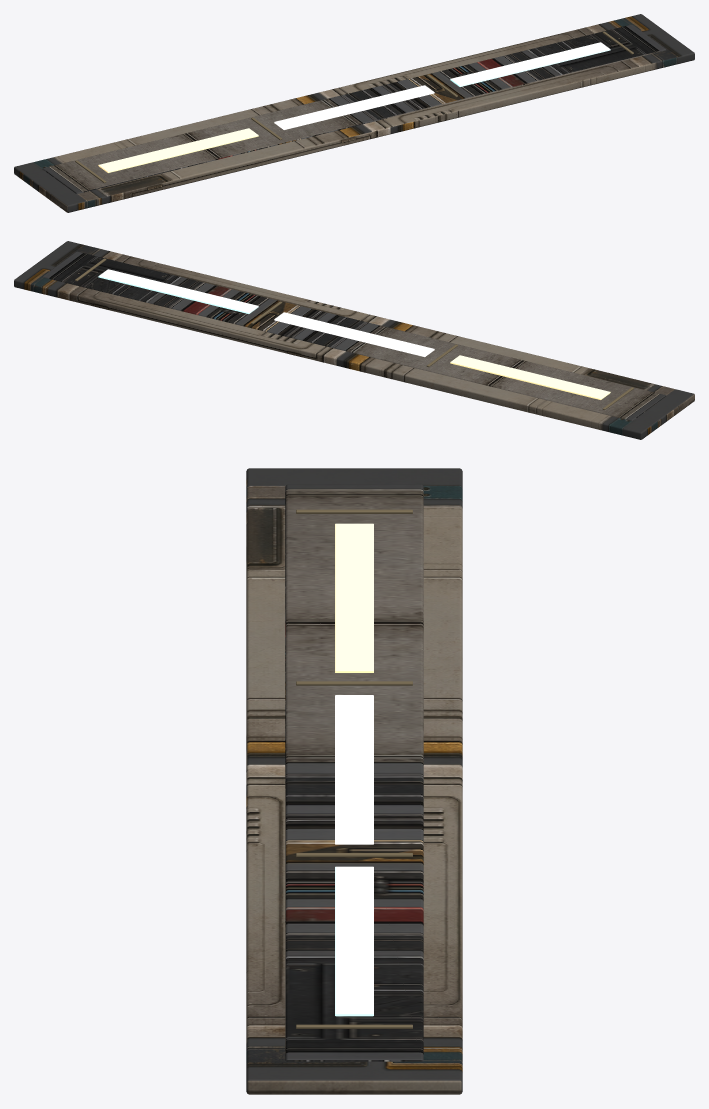
Rendered from hp_room_residential_floor_path_inlay.glb.
3 renders of one model, top to bottom at view 1: azimuth 30°, elevation 25°; view 2: azimuth 150°, elevation 25°; view 3: azimuth 270°, elevation 25°, orthographic. The views are drawn at different scales.
Parts seen in each view (by area): view 1: long_dark_floor_inlay_backer, brushed_route_plate, white_middle_route_segment, cyan_last_route_segment, warm_first_route_segment; view 2: long_dark_floor_inlay_backer, brushed_route_plate, white_middle_route_segment, cyan_last_route_segment, warm_first_route_segment; view 3: brushed_route_plate, long_dark_floor_inlay_backer, cyan_last_route_segment, warm_first_route_segment, white_middle_route_segment.
Boxes of the visible parts, <box> form: long_dark_floor_inlay_backer: <box>14,14,694,212</box>; brushed_route_plate: <box>42,24,666,193</box>; white_middle_route_segment: <box>274,85,434,129</box>; cyan_last_route_segment: <box>450,42,610,86</box>; warm_first_route_segment: <box>98,128,258,172</box>; long_dark_floor_inlay_backer: <box>14,241,694,439</box>; brushed_route_plate: <box>42,251,666,420</box>; white_middle_route_segment: <box>274,312,434,356</box>; cyan_last_route_segment: <box>98,269,258,313</box>; warm_first_route_segment: <box>450,355,610,399</box>; brushed_route_plate: <box>285,484,423,1061</box>; long_dark_floor_inlay_backer: <box>246,468,462,1094</box>; cyan_last_route_segment: <box>335,866,373,1016</box>; warm_first_route_segment: <box>335,523,373,672</box>; white_middle_route_segment: <box>335,695,373,844</box>.
Bounding box in the file's own units: 4.72 × 0.0765 × 0.7036.
6 materials, 2 textured.
